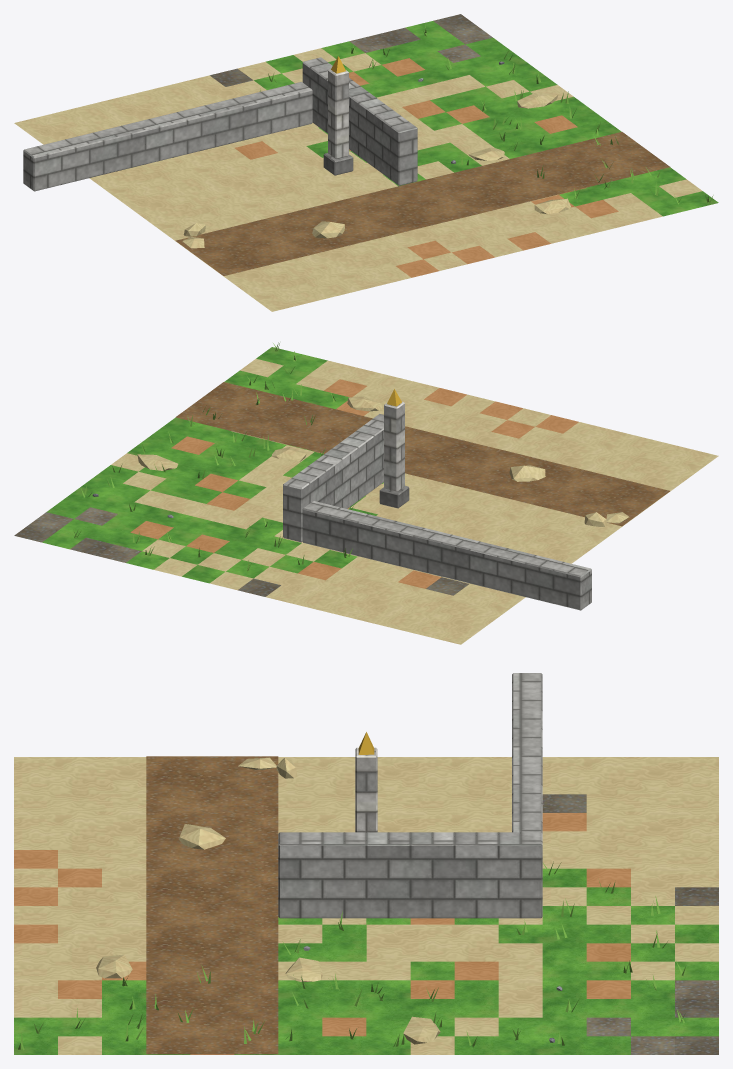
The model's file is chunk_7_20.glb.
The picture shows the model from 3 angles, top to bottom: view 1: azimuth 30°, elevation 25°; view 2: azimuth 150°, elevation 25°; view 3: azimuth 270°, elevation 25°; orthographic projection. The views are drawn at different scales.
Parts seen in each view (by area): view 1: chunk_7_20; view 2: chunk_7_20; view 3: chunk_7_20.
Boxes of the visible parts, <box> form: chunk_7_20: <box>14,14,718,311</box>; chunk_7_20: <box>14,342,718,644</box>; chunk_7_20: <box>14,673,718,1054</box>.
Bounding box in the file's own units: 18 × 4.23 × 16.
13 materials, 11 textured.
